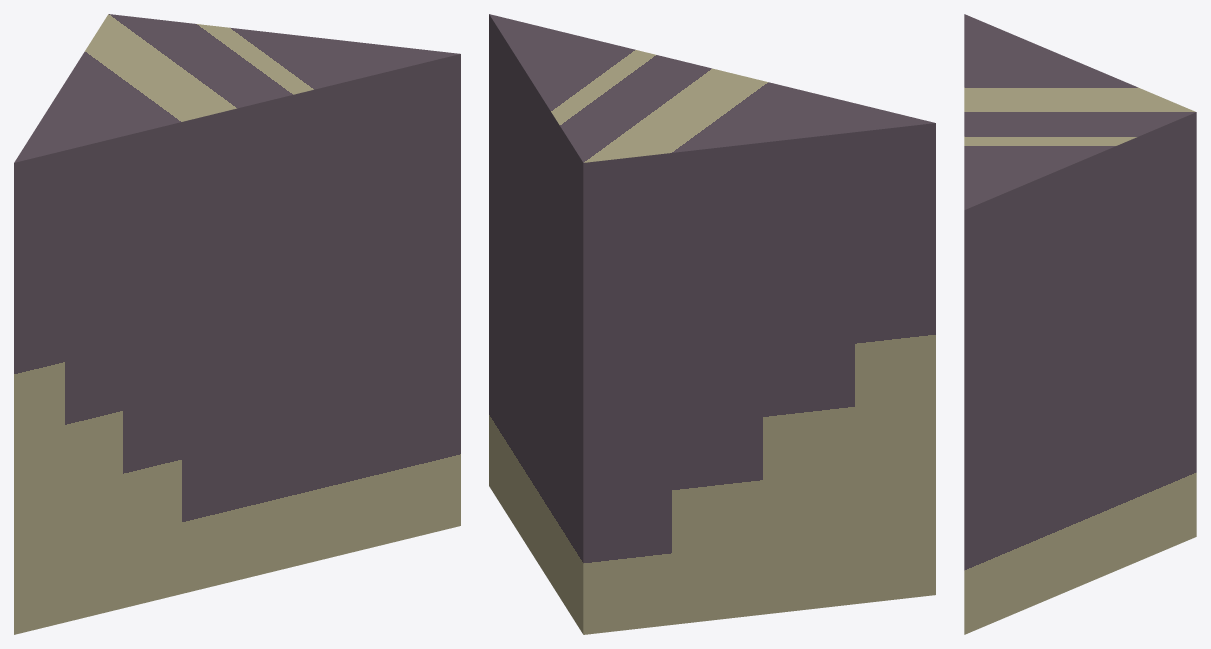
File: turtle_neck.glb
3 views of the same model, side by side, from view 1: azimuth 30°, elevation 25°; view 2: azimuth 150°, elevation 25°; view 3: azimuth 270°, elevation 25° (orthographic). The views are drawn at different scales.
Visible parts, largest first — view 1: Cube.073; view 2: Cube.073; view 3: Cube.073.
Boxes of the visible parts, left/top/right/bottom form: Cube.073: left=14, top=14, right=460, bottom=634; Cube.073: left=489, top=14, right=935, bottom=634; Cube.073: left=964, top=14, right=1196, bottom=634.
Bounding box in the file's own units: 1.12 × 1.13 × 0.5604.
1 material, 1 textured.
